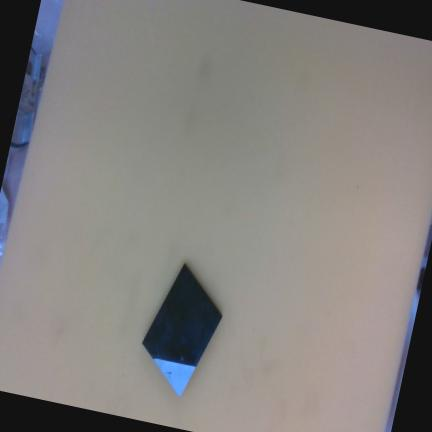tile: (128, 264, 235, 397)
